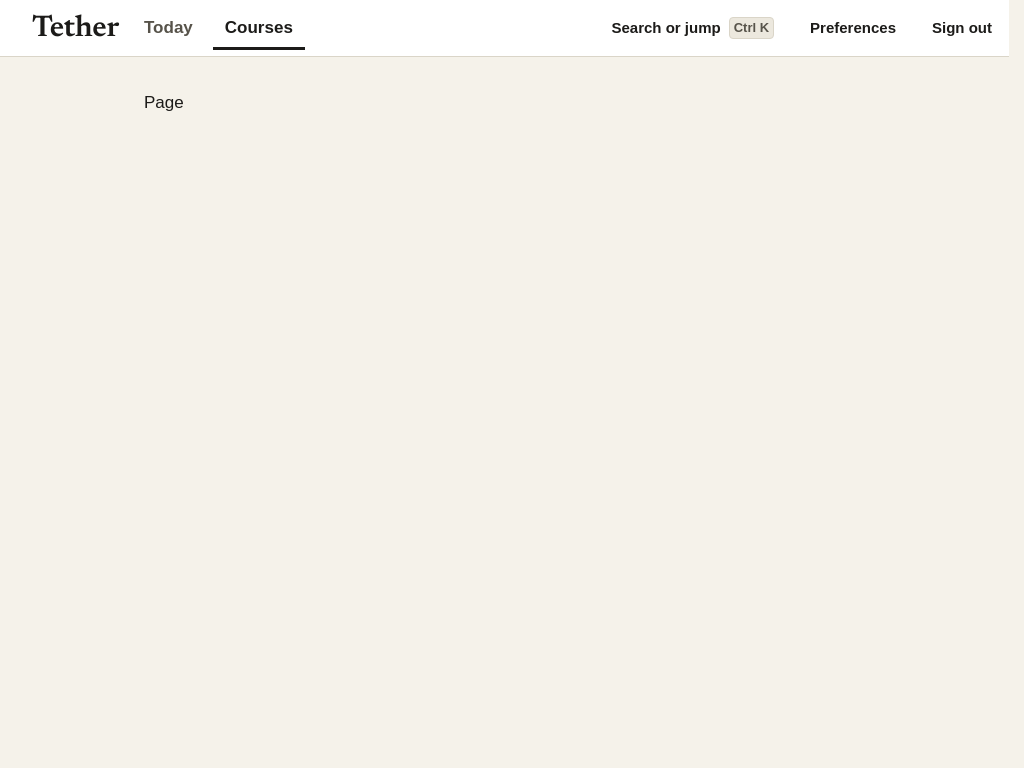
Test: AppShell header tabs and templates (redesign-round2 slice 1, PO-17) › Preferences > Account shows the signed-in name
The image size is (1024, 768).
Click the button "Preferences" at (853, 28), box [796,6,910,50]
(page scrolled)
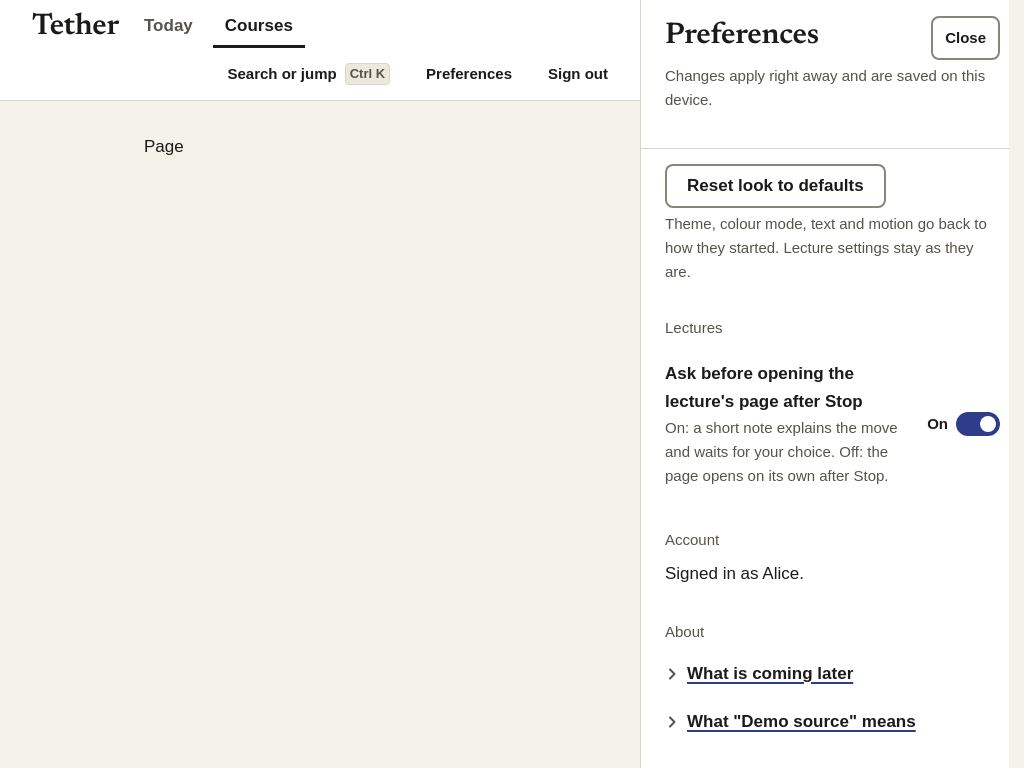
Check: the heading "Account" is shown, box [665,531,719,548]
Check: the text "Signed in as Alice." is shown, box [665,564,804,583]
